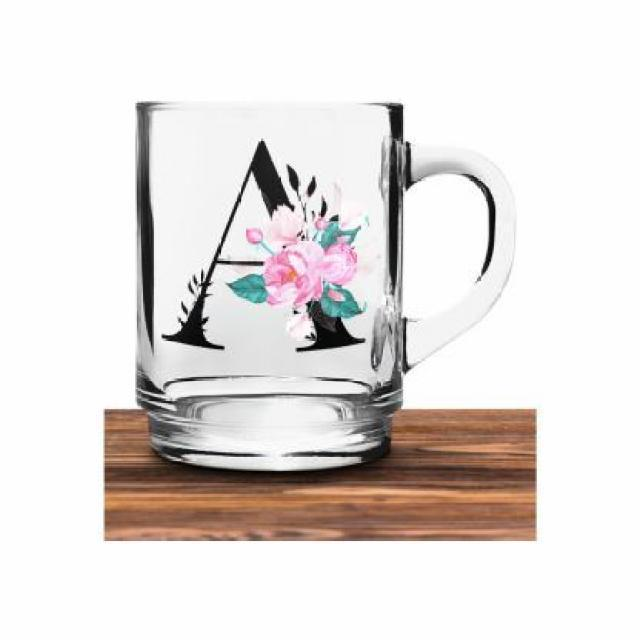taza: (132, 97, 514, 475)
